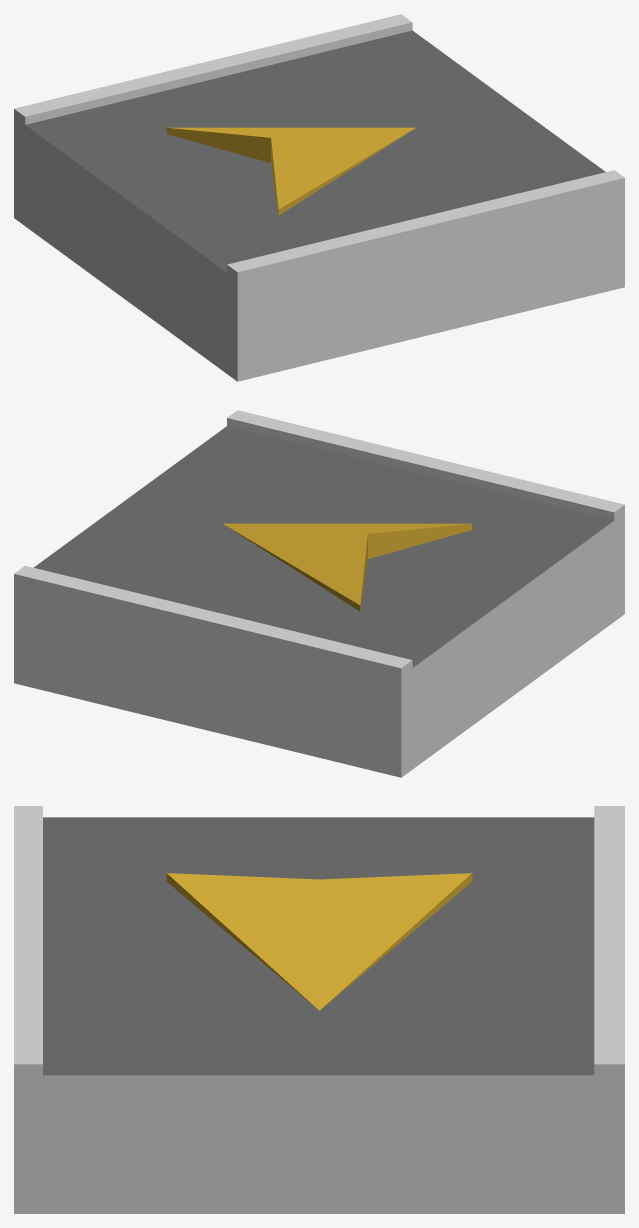
The model's file is ConveyorSingle0.glb.
3 views of the same model, one above another, from view 1: azimuth 30°, elevation 25°; view 2: azimuth 150°, elevation 25°; view 3: azimuth 270°, elevation 25° (orthographic). The views are drawn at different scales.
Parts seen in each view (by area): view 1: Y+, Z+, X-, DeltaArrow; view 2: Y+, Z-, X-, DeltaArrow; view 3: Y+, X+, DeltaArrow.
Boxes of the visible parts, x1,y1,x2,y2 form: Y+: [14, 14, 624, 272]; Z+: [237, 178, 624, 381]; X-: [14, 109, 237, 381]; DeltaArrow: [166, 127, 415, 215]; Y+: [14, 410, 624, 668]; Z-: [14, 574, 401, 777]; X-: [401, 505, 624, 777]; DeltaArrow: [223, 523, 472, 611]; Y+: [14, 806, 624, 1075]; X+: [14, 1064, 624, 1213]; DeltaArrow: [166, 873, 472, 1010].
Bounding box in the file's own units: 1 × 0.3125 × 1.
